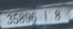3: (6, 13, 13, 24)
5: (12, 13, 19, 24)
6: (31, 10, 38, 24)
8: (54, 9, 61, 21), (19, 12, 25, 24)
9: (25, 12, 31, 24)
a: (43, 10, 48, 22)
